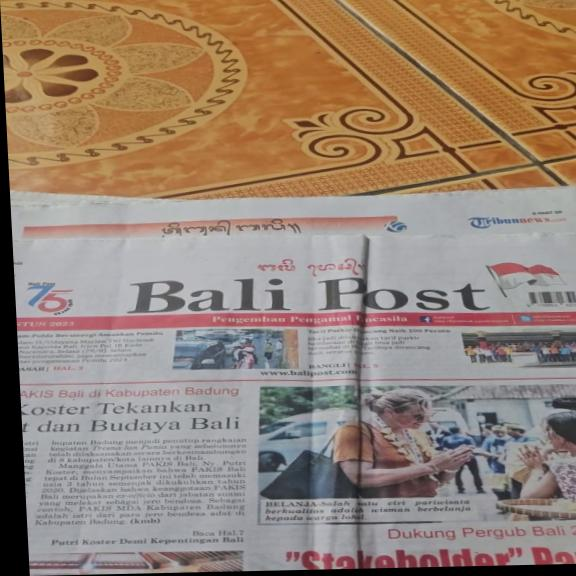Kertas: (14, 194, 576, 573)
